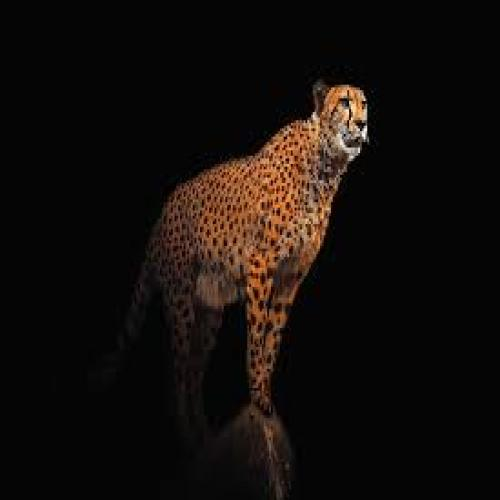cheetah-endangered: (114, 74, 370, 419)
